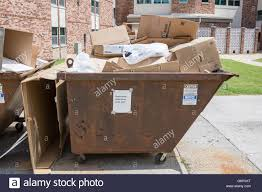Dumpster: (56, 67, 242, 166)
